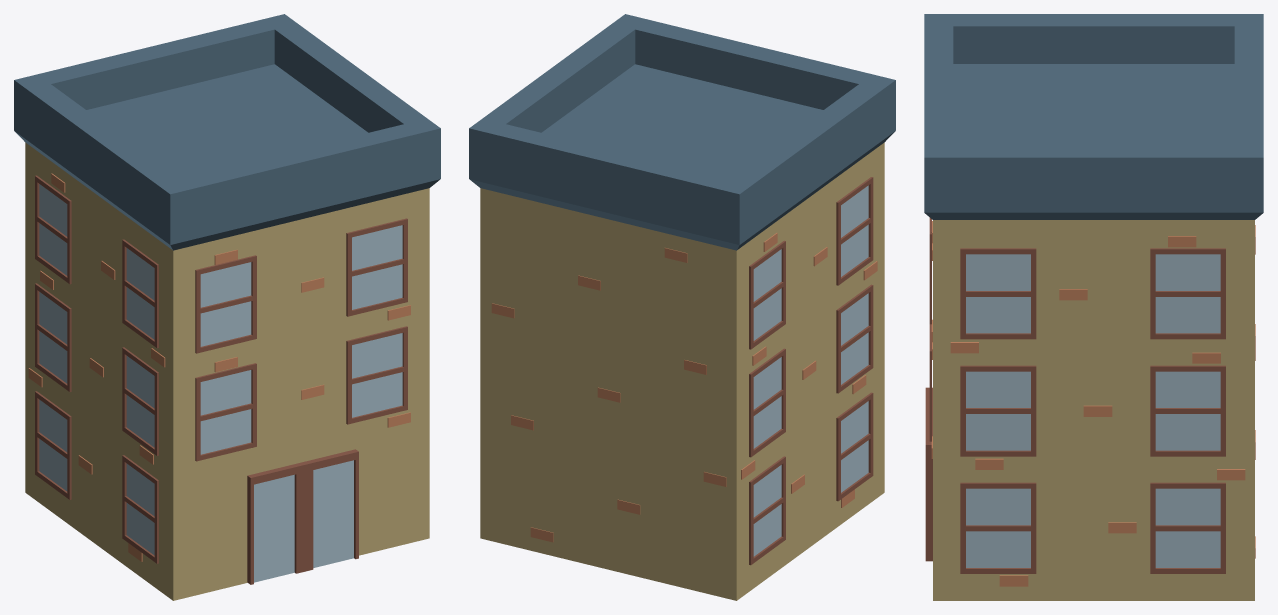
Rendered from Buildingg-001.glb.
3 renders of one model, left to right at view 1: azimuth 30°, elevation 25°; view 2: azimuth 150°, elevation 25°; view 3: azimuth 270°, elevation 25°, orthographic. The views are drawn at different scales.
Visible parts, largest first — view 1: building-001; view 2: building-001; view 3: building-001.
Part boxes in pixels (<box>): building-001: <box>14,14,440,600</box>; building-001: <box>469,14,895,600</box>; building-001: <box>924,14,1263,600</box>.
Size of the model in its own units: 2.59 by 3.76 by 2.59.
Materials: 1 (1 with a texture image).
